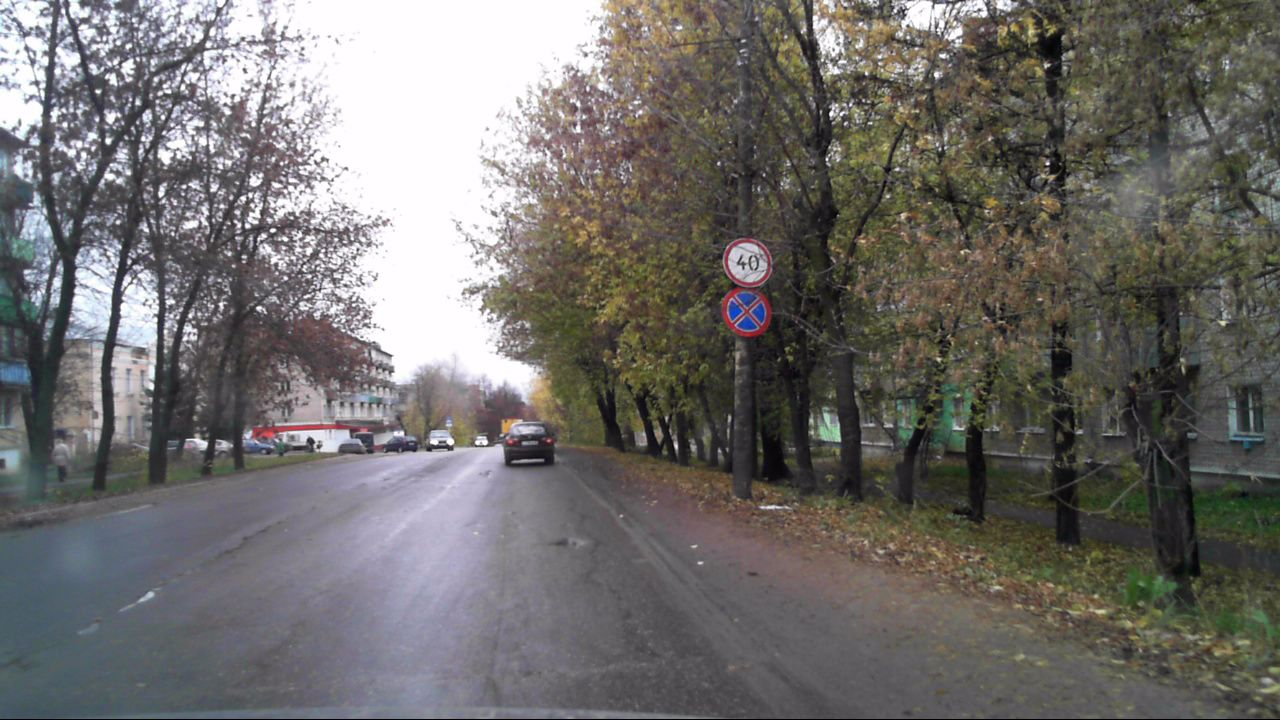No Parking: (721, 288, 772, 337)
speed_warning_40: (721, 237, 774, 288)
